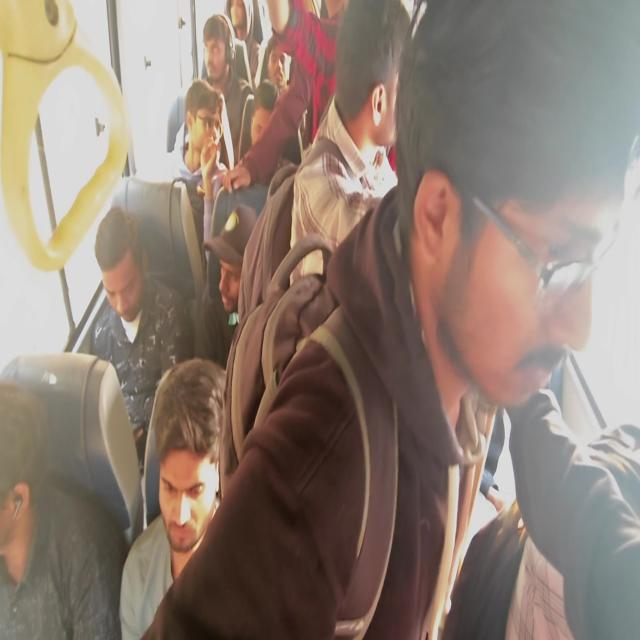person: (393, 15, 632, 425), (135, 393, 267, 640), (503, 467, 639, 640), (0, 388, 52, 592), (209, 216, 273, 375), (335, 8, 400, 154), (88, 212, 140, 324), (312, 1, 371, 81), (206, 18, 252, 105), (182, 83, 222, 170), (249, 32, 300, 100), (246, 87, 278, 163), (225, 0, 257, 44)
